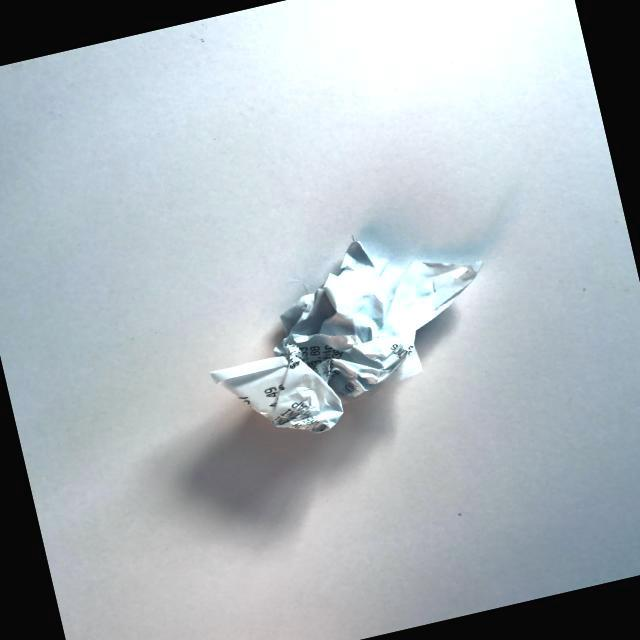paper: (170, 200, 530, 486)
